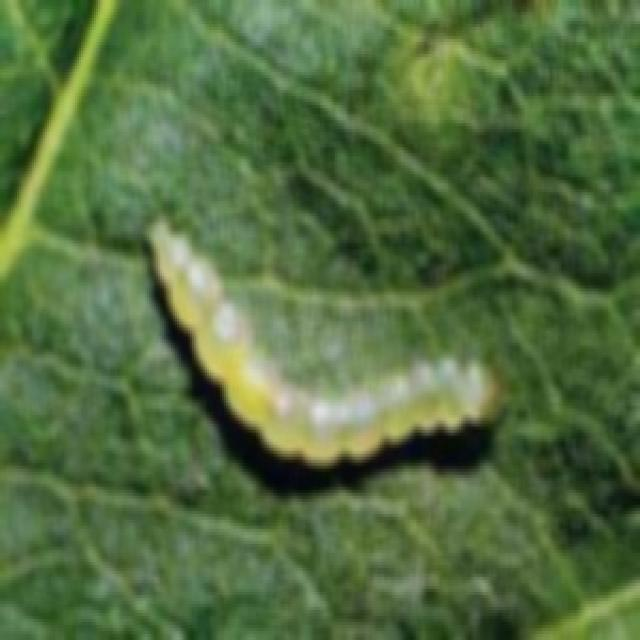peach borer: (144, 216, 502, 477)
